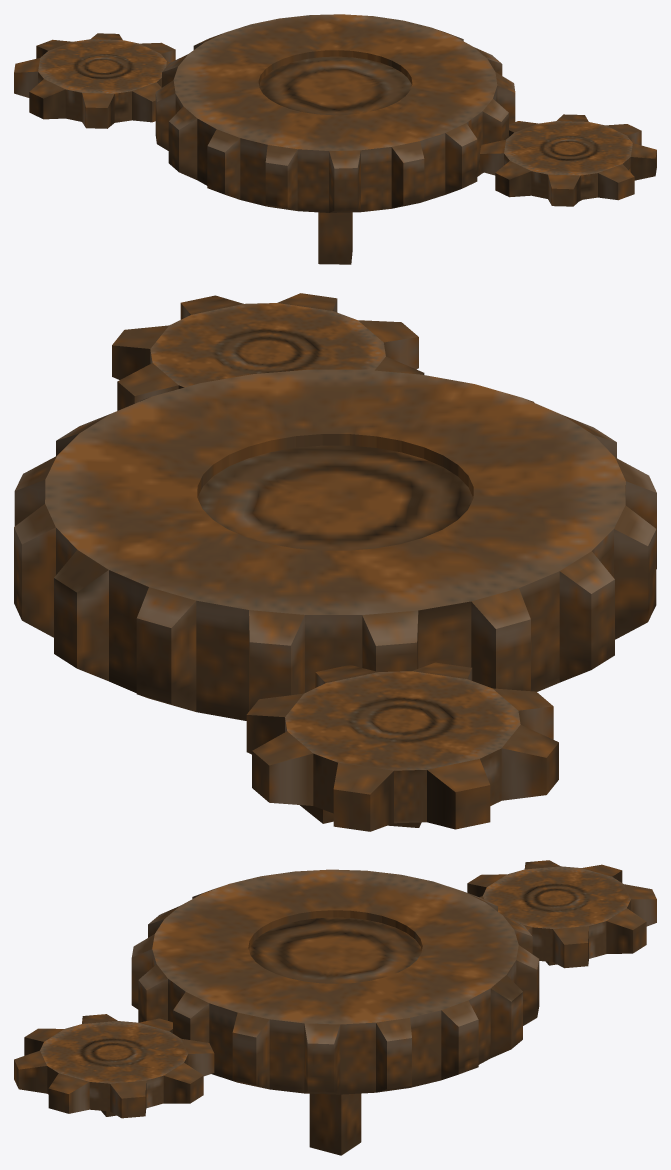
File: engranajes_ajustes.fbx
The picture shows the model from 3 angles, top to bottom: view 1: azimuth 30°, elevation 25°; view 2: azimuth 150°, elevation 25°; view 3: azimuth 270°, elevation 25°; orthographic projection. The views are drawn at different scales.
Visible parts, largest first — view 1: engranaje grande, Engranaje peq 1, engranaje peq 2, Cylinder.002; view 2: engranaje grande, engranaje peq 2, Engranaje peq 1; view 3: engranaje grande, Engranaje peq 1, engranaje peq 2, Cylinder.002.
Part boxes in pixels (x1=…): engranaje grande: x1=155, y1=14, x2=515, y2=212; Engranaje peq 1: x1=480, y1=114, x2=656, y2=206; engranaje peq 2: x1=14, y1=33, x2=175, y2=128; Cylinder.002: x1=318, y1=212, x2=352, y2=264; engranaje grande: x1=14, y1=369, x2=656, y2=720; engranaje peq 2: x1=246, y1=662, x2=558, y2=831; Engranaje peq 1: x1=112, y1=293, x2=424, y2=410; engranaje grande: x1=131, y1=869, x2=539, y2=1094; Engranaje peq 1: x1=14, y1=1014, x2=214, y2=1118; engranaje peq 2: x1=467, y1=860, x2=656, y2=968; Cylinder.002: x1=309, y1=1093, x2=361, y2=1155.
Bounding box in the file's own units: 351 × 302 × 119.
1 material, 1 textured.
